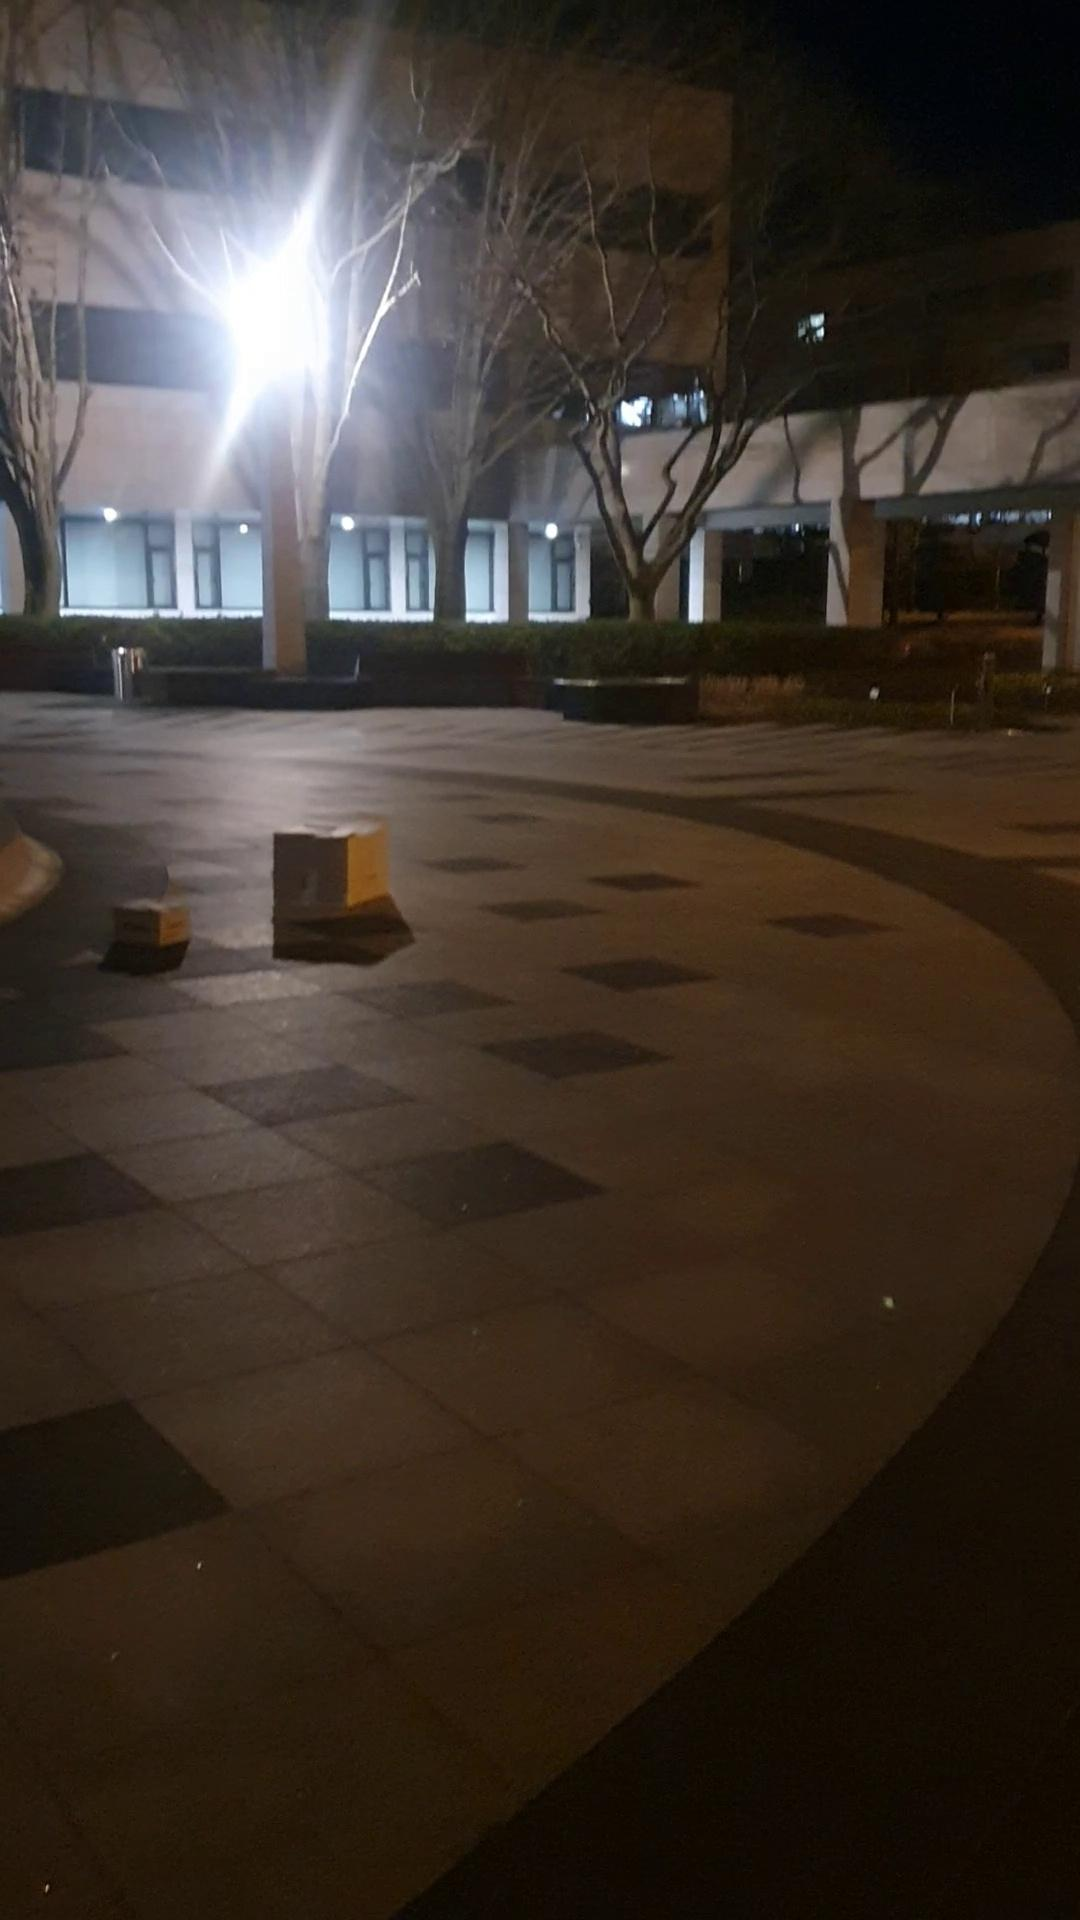Box: (272, 804, 393, 920), (103, 885, 185, 952)
